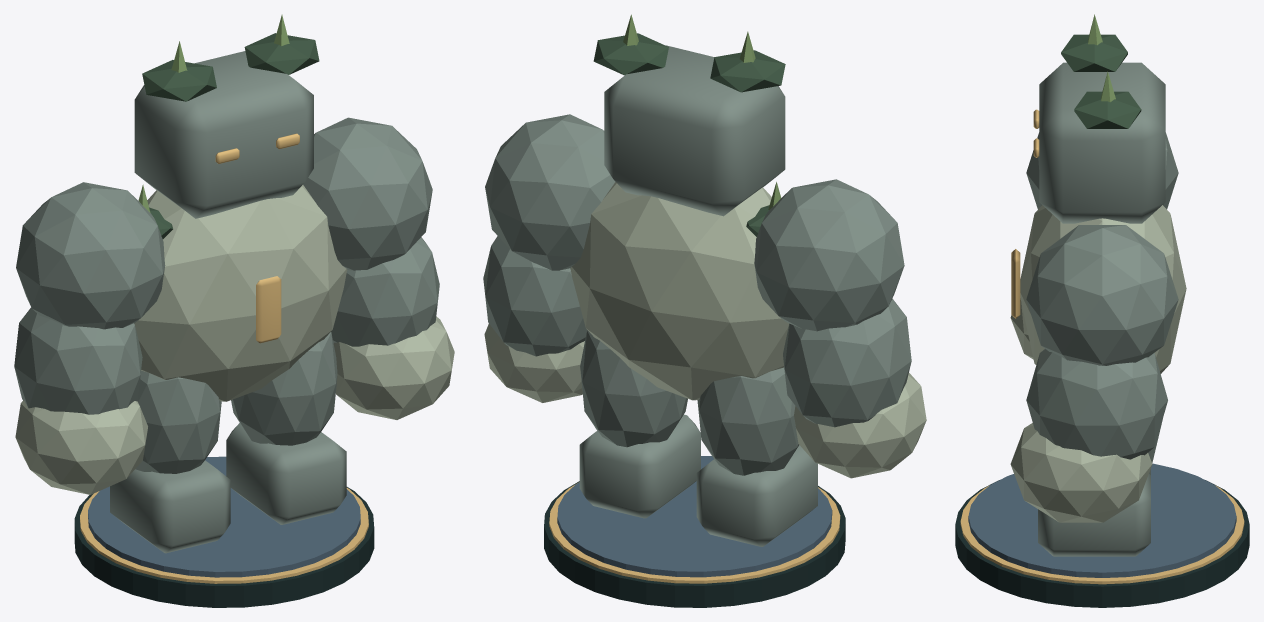
File: golem.glb
The picture shows the model from 3 angles, left to right: view 1: azimuth 30°, elevation 25°; view 2: azimuth 150°, elevation 25°; view 3: azimuth 270°, elevation 25°; orthographic projection. The views are drawn at different scales.
Visible parts, largest first — view 1: StoneTorso, StoneHead, StoneShoulder, StoneShoulder.001, PedestalTop, StoneForearm, StoneFist, StoneFoot.001, StoneFist.001, StoneFoot, Pedestal, StoneForearm.001 (+6 smaller); view 2: StoneTorso, StoneHead, StoneShoulder, StoneShoulder.001, PedestalTop, StoneForearm, StoneLeg, StoneForearm.001, StoneFoot.001, Pedestal, StoneFoot, StoneLeg.001 (+5 smaller); view 3: StoneShoulder.001, StoneHead, PedestalTop, StoneForearm.001, StoneFist.001, Pedestal, StoneTorso, StoneFoot.001, PedestalRim, Moss.001, Moss, StoneShoulder (+2 smaller).
Part boxes in pixels (x1,y1,x2,y2): StoneTorso: (134,185,347,401); StoneHead: (134,51,313,218); StoneShoulder: (16,182,165,329); StoneShoulder.001: (303,117,432,270); PedestalTop: (88,456,360,577); StoneForearm: (14,307,142,414); StoneFist: (15,400,147,494); StoneFoot.001: (226,423,346,524); StoneFist.001: (333,316,454,419); StoneFoot: (110,460,230,553); Pedestal: (74,487,374,607); StoneForearm.001: (331,237,439,346); StoneTorso: (570,182,788,400); StoneHead: (604,45,785,216); StoneShoulder: (754,179,904,331); StoneShoulder.001: (485,114,615,270); PedestalTop: (557,456,832,577); StoneForearm: (783,299,911,427); StoneLeg: (697,367,798,475); StoneForearm.001: (483,236,586,356); StoneFoot.001: (579,414,700,518); Pedestal: (544,481,845,607); StoneFoot: (696,445,817,546); StoneLeg.001: (580,330,687,447); StoneShoulder.001: (1026,225,1178,365); StoneHead: (1039,62,1165,223); PedestalTop: (968,463,1236,577); StoneForearm.001: (1026,349,1167,459); StoneFist.001: (1010,423,1152,522); Pedestal: (955,480,1249,607); StoneTorso: (1020,205,1186,373); StoneFoot.001: (1038,474,1150,556); PedestalRim: (960,485,1244,584); Moss.001: (1074,91,1141,128); Moss: (1061,34,1127,71); StoneShoulder: (1026,132,1178,209).
Size of the model in its own units: 0.2334 by 0.2775 by 0.1456.
